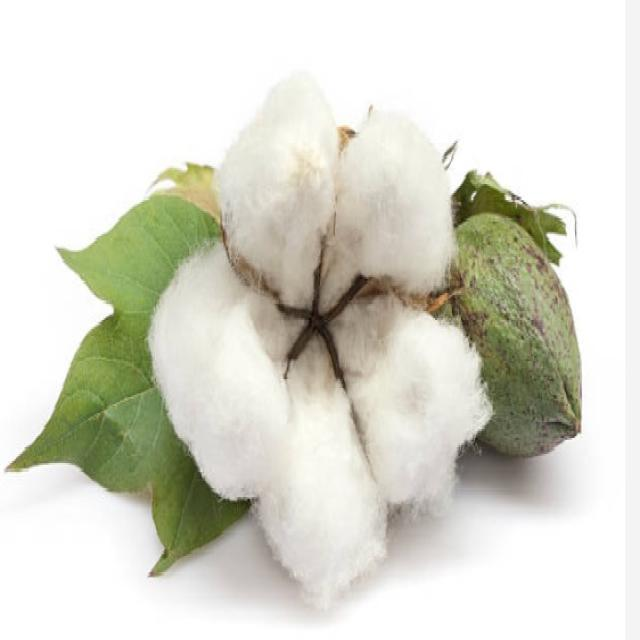Early Boll: (452, 176, 586, 459)
Matured Cotton Boll: (156, 96, 478, 575)
